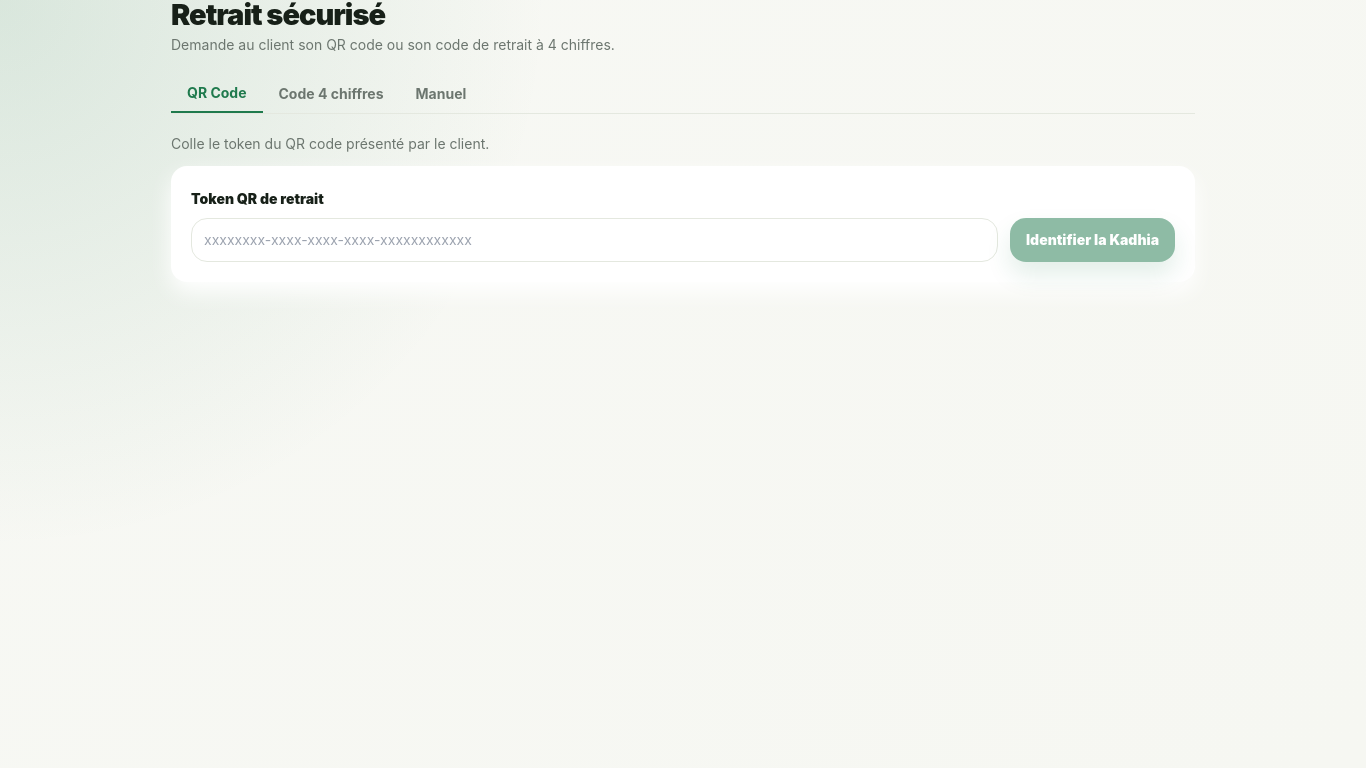
MerchantPickupPage › uses the customer display name when first and last name are missing
The image size is (1366, 768).
Type "11111111-1111-4111-8111-111111111111" into the field labelled "Token QR de retrait".
click(594, 240); type("11111111-1111-4111-8111-111111111111")  # box x1=191 y1=218 x2=998 y2=262
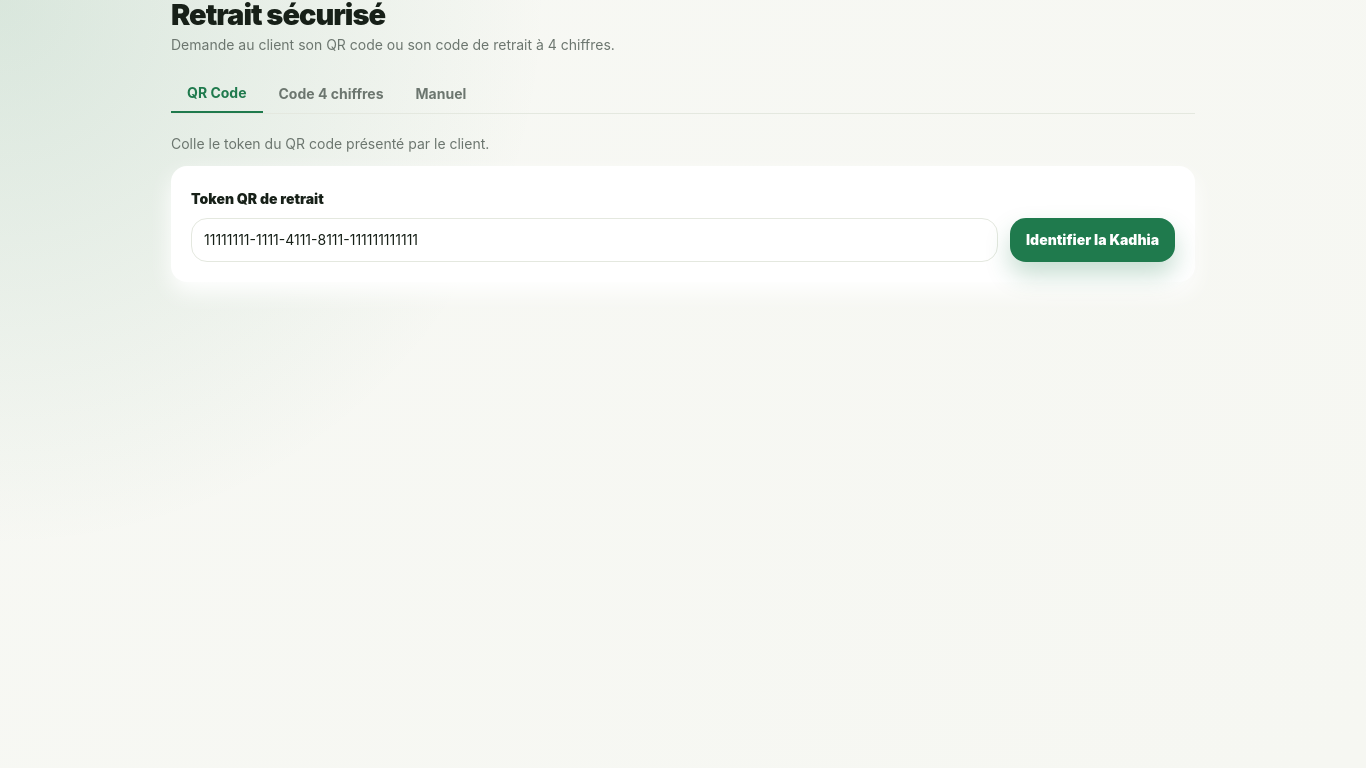
Click the button "Identifier la Kadhia".
click(1092, 240)  # box x1=1010 y1=218 x2=1175 y2=262
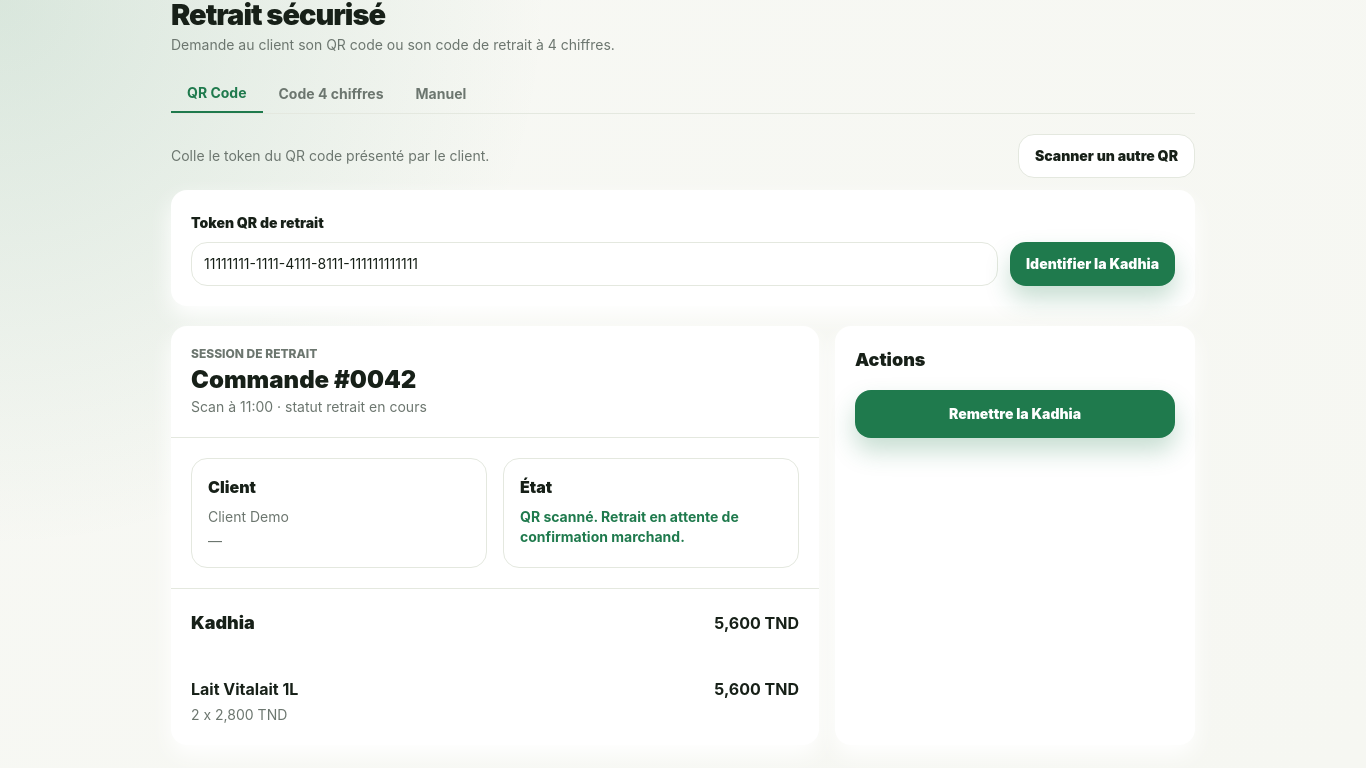
Now the text "Client Demo" is shown, box x1=208 y1=508 x2=289 y2=525
